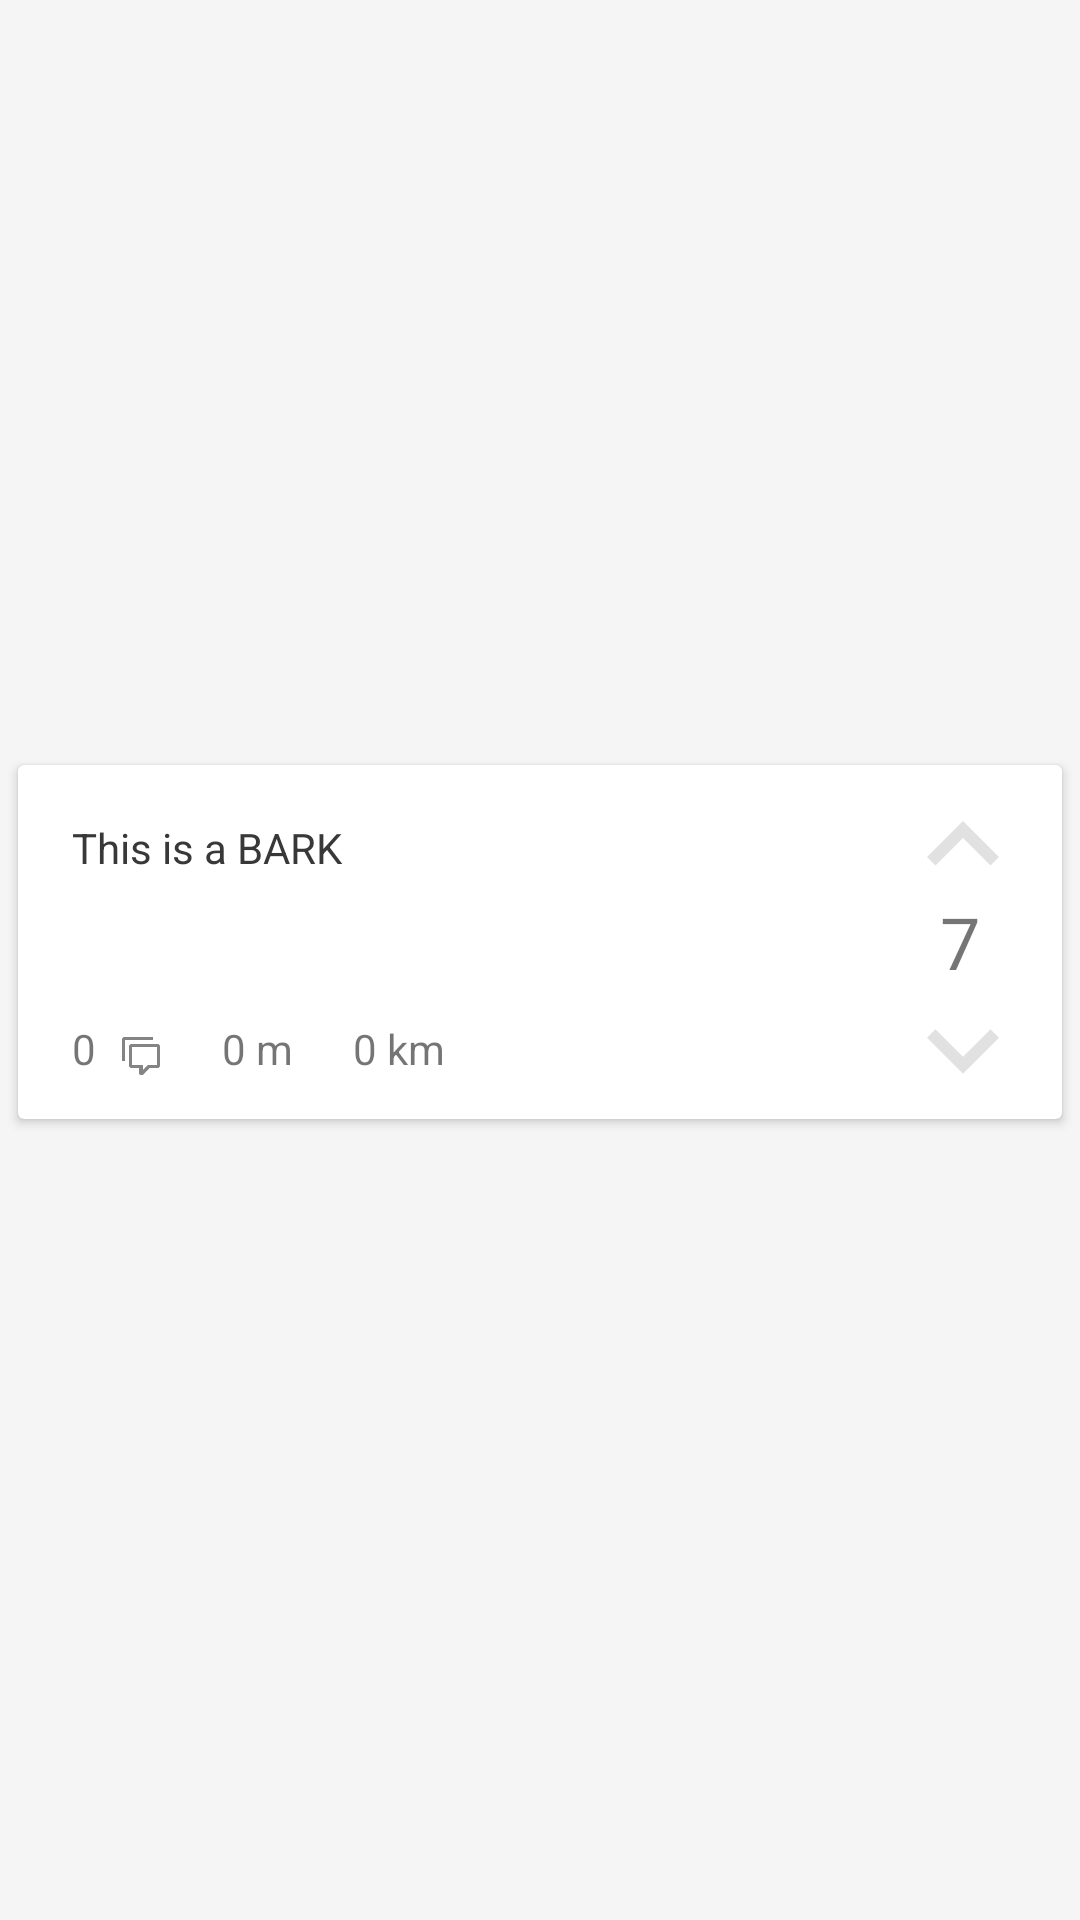

Where icons sit on this 1080×1920 app screen, as Rect(x1, y1, x2, y2):
comment multiple: Rect(122, 1037, 160, 1075)
keyboard arrow down: Rect(928, 1030, 998, 1073)
keyboard arrow up: Rect(928, 822, 998, 865)
